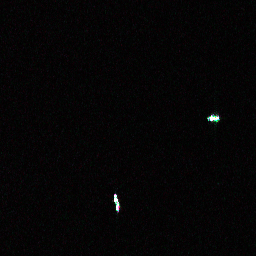ship: (111, 192, 122, 214), (205, 114, 221, 123)
